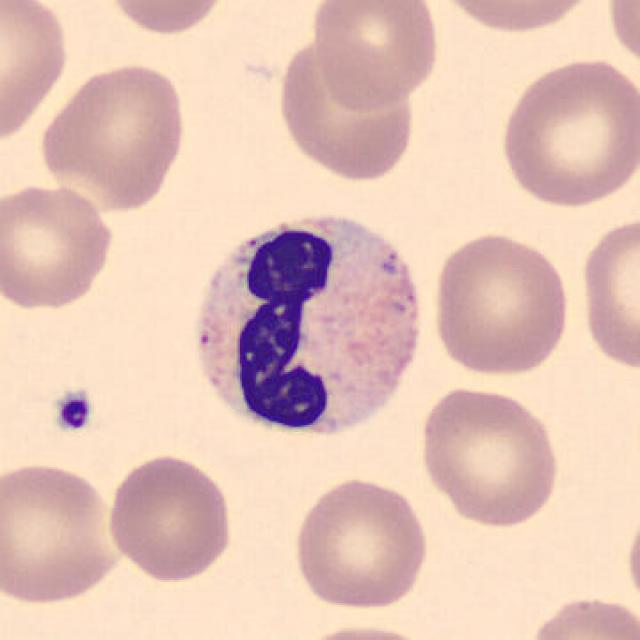Neutrophil: (180, 198, 433, 452)
Platelets: (48, 384, 96, 438)
RBC: (36, 58, 190, 214), (272, 27, 421, 184), (496, 53, 638, 210), (427, 229, 574, 379), (414, 383, 564, 529), (290, 472, 434, 614), (0, 456, 124, 608), (103, 450, 237, 586), (0, 178, 117, 314), (308, 2, 444, 113), (0, 0, 73, 148), (576, 210, 638, 375), (428, 0, 602, 37), (520, 590, 638, 640), (101, 0, 235, 37), (288, 620, 439, 640), (602, 0, 640, 77), (622, 496, 640, 616)
